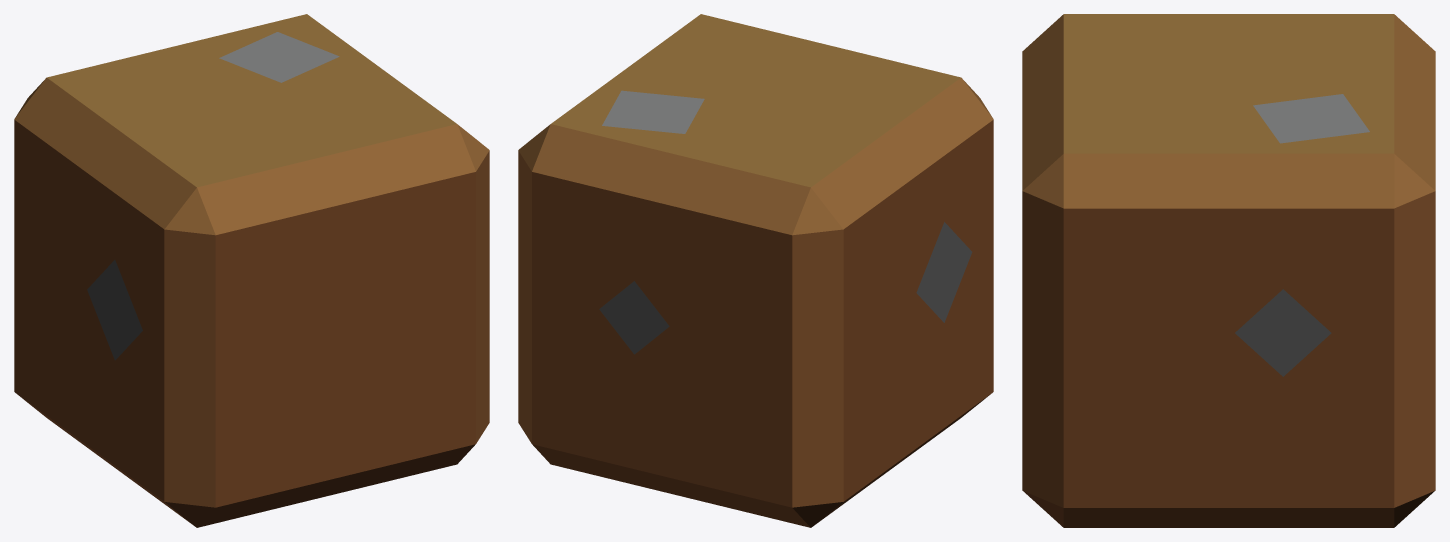
Rendered from m_kub_dirt_miniCube.FBX.
3 views of the same model, side by side, from view 1: azimuth 30°, elevation 25°; view 2: azimuth 150°, elevation 25°; view 3: azimuth 270°, elevation 25° (orthographic). The views are drawn at different scales.
Visible parts, largest first — view 1: m_kub_dirt_miniCube; view 2: m_kub_dirt_miniCube; view 3: m_kub_dirt_miniCube.
Part boxes in pixels (x1=…): m_kub_dirt_miniCube: x1=14, y1=14, x2=489, y2=527; m_kub_dirt_miniCube: x1=518, y1=14, x2=993, y2=527; m_kub_dirt_miniCube: x1=1022, y1=14, x2=1435, y2=527.
Size of the model in its own units: 1 by 1 by 1.
